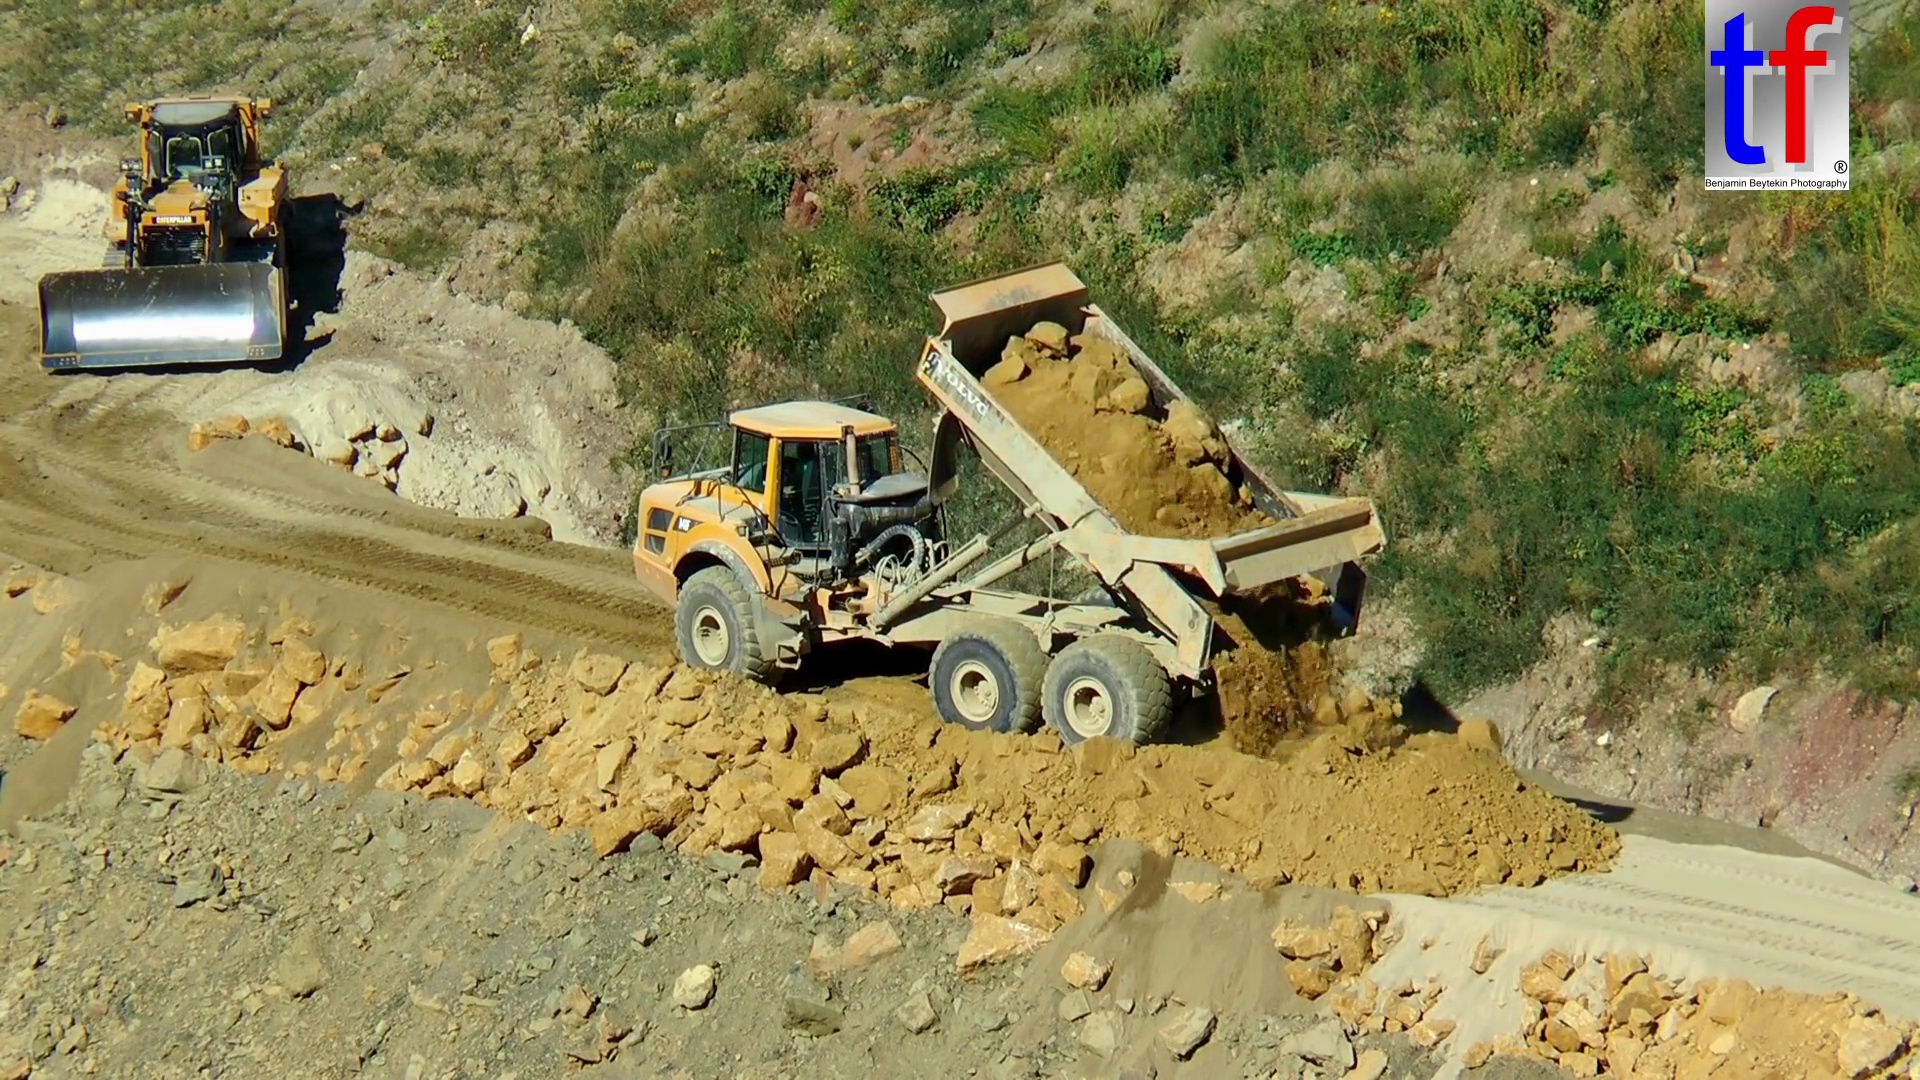bulldozer: (32, 91, 295, 371)
dumper: (629, 258, 1393, 764)
